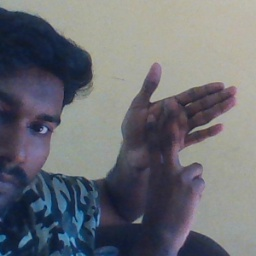N: (110, 57, 240, 205)
